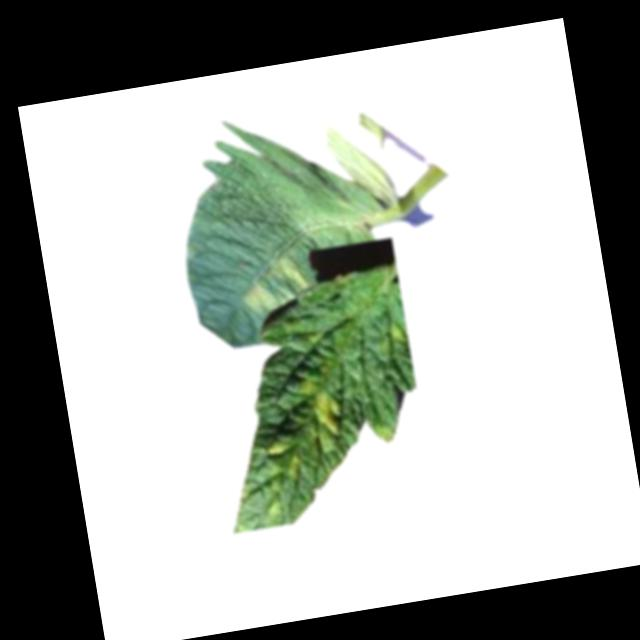Leaf_Mold: (294, 374, 347, 453), (259, 435, 303, 486), (263, 251, 311, 294), (239, 280, 277, 315)
